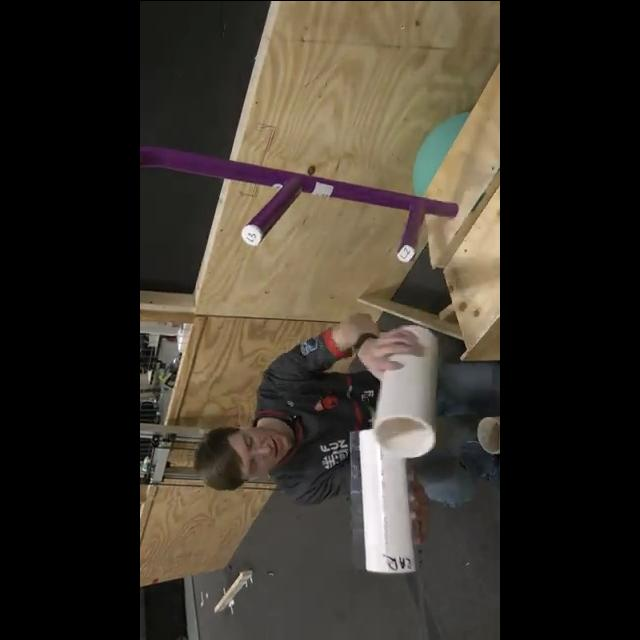CORAL: (373, 324, 439, 458), (358, 426, 418, 572)
